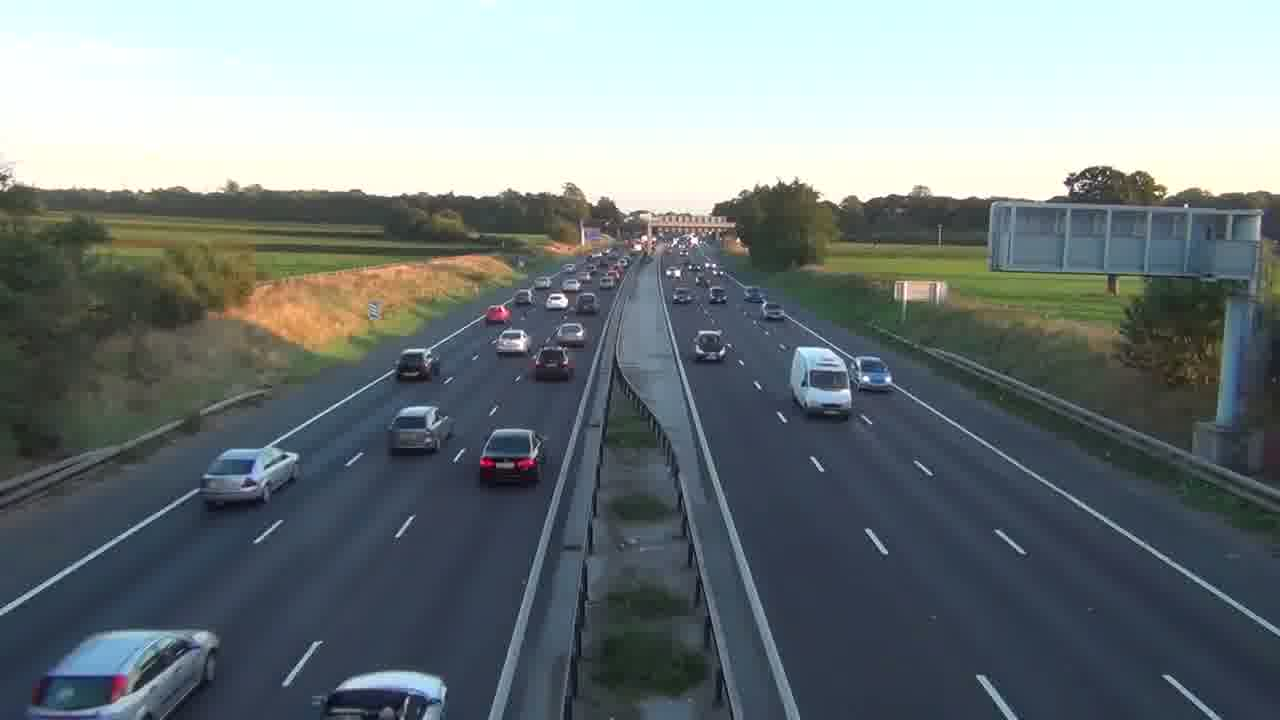car: (27, 627, 221, 719), (315, 669, 448, 719), (200, 446, 300, 507), (478, 426, 548, 486), (386, 404, 454, 454), (849, 355, 893, 392), (532, 346, 575, 382), (396, 348, 436, 382), (692, 330, 728, 363), (494, 328, 531, 358), (555, 321, 587, 350), (544, 291, 570, 310)
